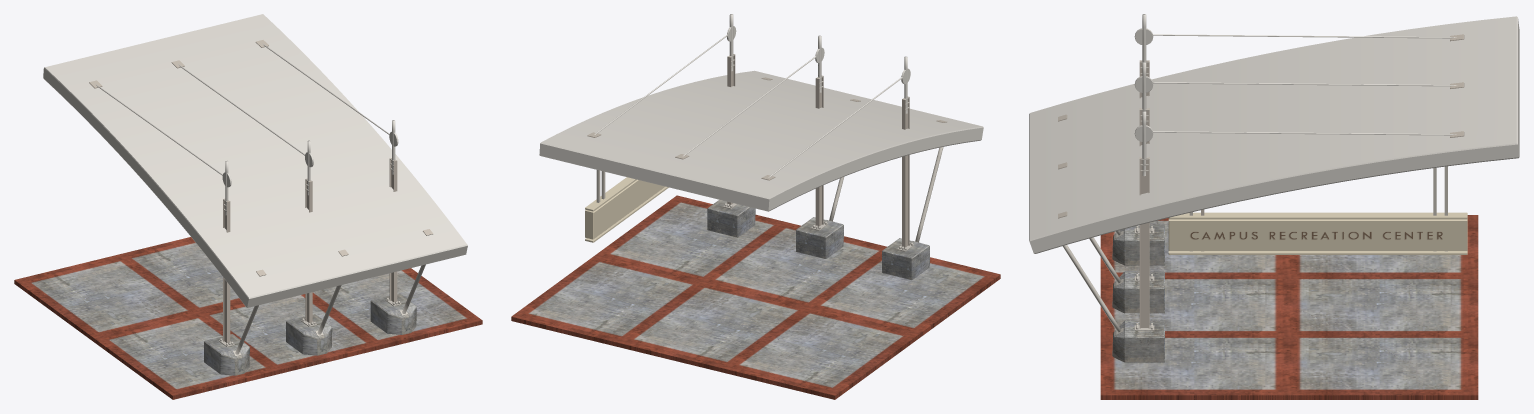
File: crcScaled.dae
3 views of the same model, side by side, from view 1: azimuth 30°, elevation 25°; view 2: azimuth 150°, elevation 25°; view 3: azimuth 270°, elevation 25° (orthographic). The views are drawn at different scales.
Parts seen in each view (by area): view 1: pCube4, pCube29, pCube2, pCube20, pCube32, polySurface4, polySurface2, polySurface3; view 2: pCube29, pCube4, pCube17, pCube20, pCube32, pCube2, polySurface4, polySurface3, pCylinder23, pCube18; view 3: pCube4, pCube29, pCube17, pCube18, pCube2, pCube20, pCube32, polySurface2, pCube19, pCylinder11, pCylinder25, pCylinder14 (+1 smaller).
Boxes of the visible parts, bbox=[...] form: pCube4: bbox=[43, 14, 467, 307]; pCube29: bbox=[14, 237, 482, 399]; pCube2: bbox=[370, 293, 416, 334]; pCube20: bbox=[286, 314, 332, 355]; pCube32: bbox=[204, 334, 249, 375]; polySurface4: bbox=[223, 198, 230, 343]; polySurface2: bbox=[389, 158, 397, 302]; polySurface3: bbox=[305, 178, 312, 323]; pCube29: bbox=[511, 195, 1000, 399]; pCube4: bbox=[539, 70, 983, 211]; pCube17: bbox=[585, 179, 665, 239]; pCube20: bbox=[796, 217, 843, 258]; pCube32: bbox=[882, 238, 929, 279]; pCube2: bbox=[707, 200, 755, 237]; polySurface4: bbox=[902, 96, 909, 248]; polySurface3: bbox=[815, 75, 823, 227]; pCylinder23: bbox=[915, 147, 943, 242]; pCube18: bbox=[585, 177, 636, 211]; pCube4: bbox=[1029, 16, 1519, 253]; pCube29: bbox=[1100, 215, 1478, 399]; pCube17: bbox=[1168, 219, 1467, 250]; pCube18: bbox=[1168, 212, 1467, 219]; pCube2: bbox=[1112, 320, 1164, 362]; pCube20: bbox=[1112, 271, 1164, 313]; pCube32: bbox=[1112, 223, 1164, 265]; polySurface2: bbox=[1139, 157, 1149, 328]; pCube19: bbox=[1168, 251, 1467, 254]; pCylinder11: bbox=[1153, 131, 1456, 135]; pCylinder25: bbox=[1153, 34, 1456, 38]; pCylinder14: bbox=[1153, 82, 1456, 86].
Size of the model in its own units: 23.5 by 15.05 by 27.04.
